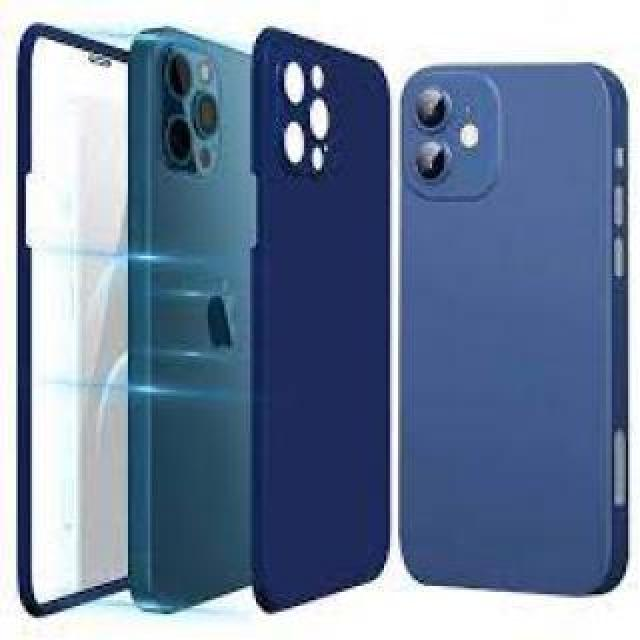smart phone: (393, 48, 637, 620), (255, 32, 400, 623), (7, 8, 130, 622), (128, 13, 250, 620)
